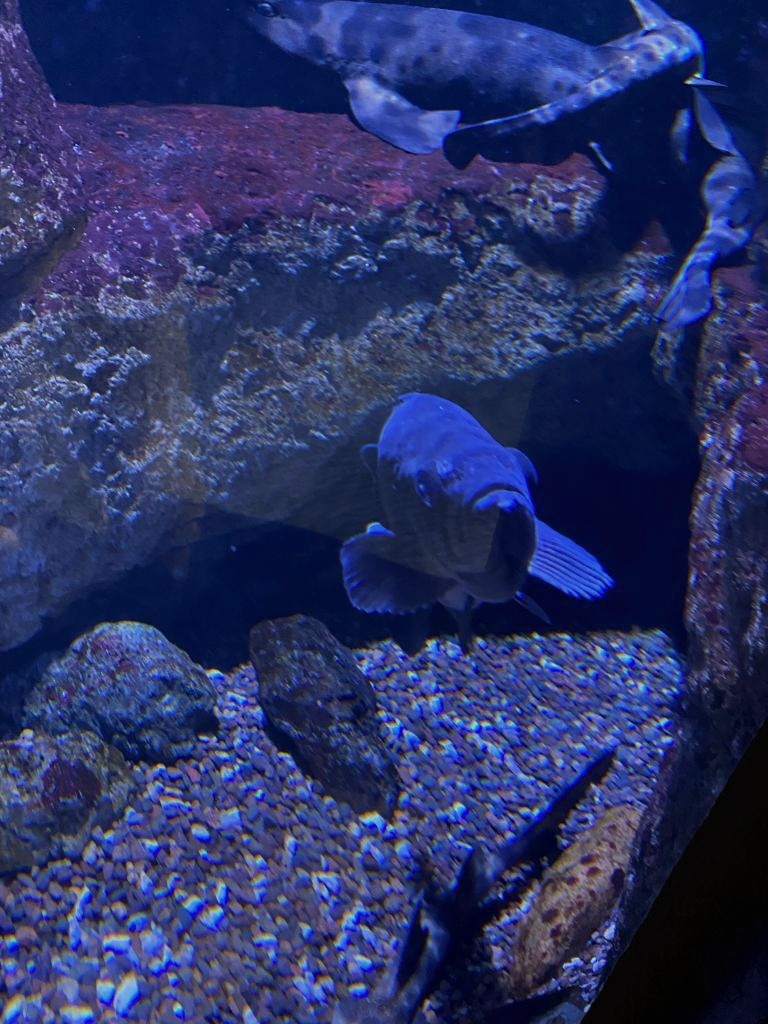fish: (343, 388, 614, 644)
shark: (243, 0, 756, 326)
